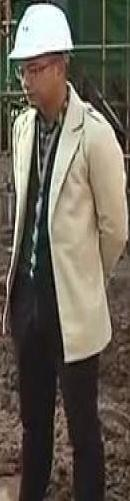hard-hat: (6, 1, 74, 59)
